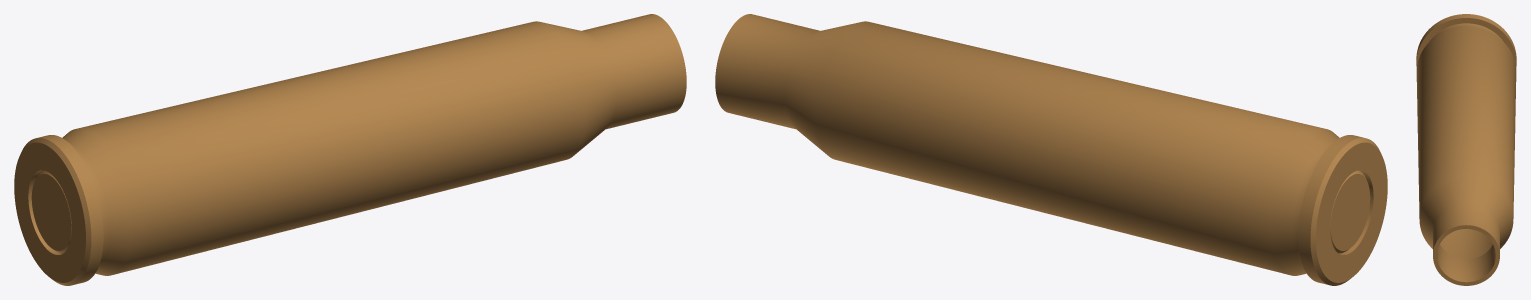
Rendered from case-5_d_56x45.glb.
3 renders of one model, left to right at view 1: azimuth 30°, elevation 25°; view 2: azimuth 150°, elevation 25°; view 3: azimuth 270°, elevation 25°, orthographic. The views are drawn at different scales.
Visible parts, largest first — view 1: cartridge:cartridge-model; view 2: cartridge:cartridge-model; view 3: cartridge:cartridge-model.
Part boxes in pixels (x1=…): cartridge:cartridge-model: x1=14, y1=14, x2=686, y2=285; cartridge:cartridge-model: x1=715, y1=14, x2=1387, y2=285; cartridge:cartridge-model: x1=1416, y1=14, x2=1516, y2=285.
Bounding box in the file's own units: 0.0447 × 0.0096 × 0.0096.
